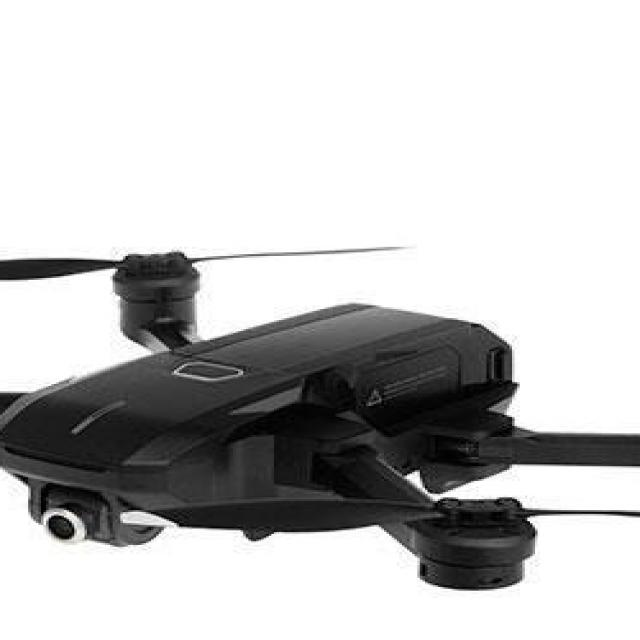drone: (0, 194, 640, 590)
